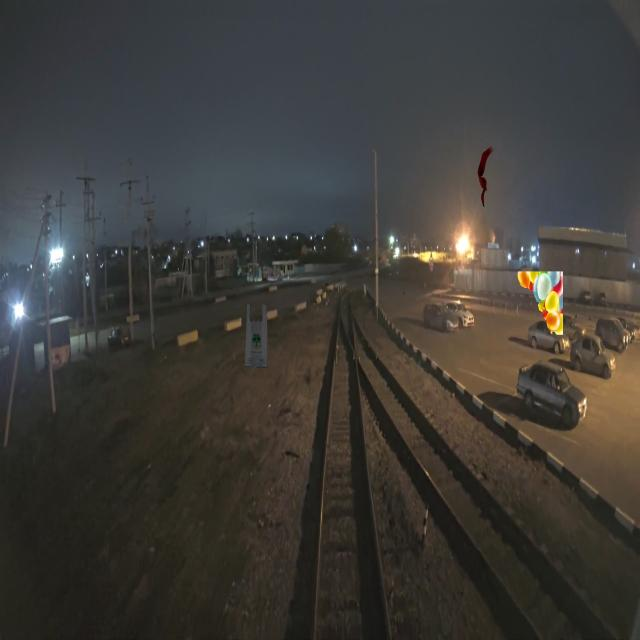balloon: (517, 271, 563, 335), (245, 304, 268, 368)
floating object: (477, 143, 494, 207)
